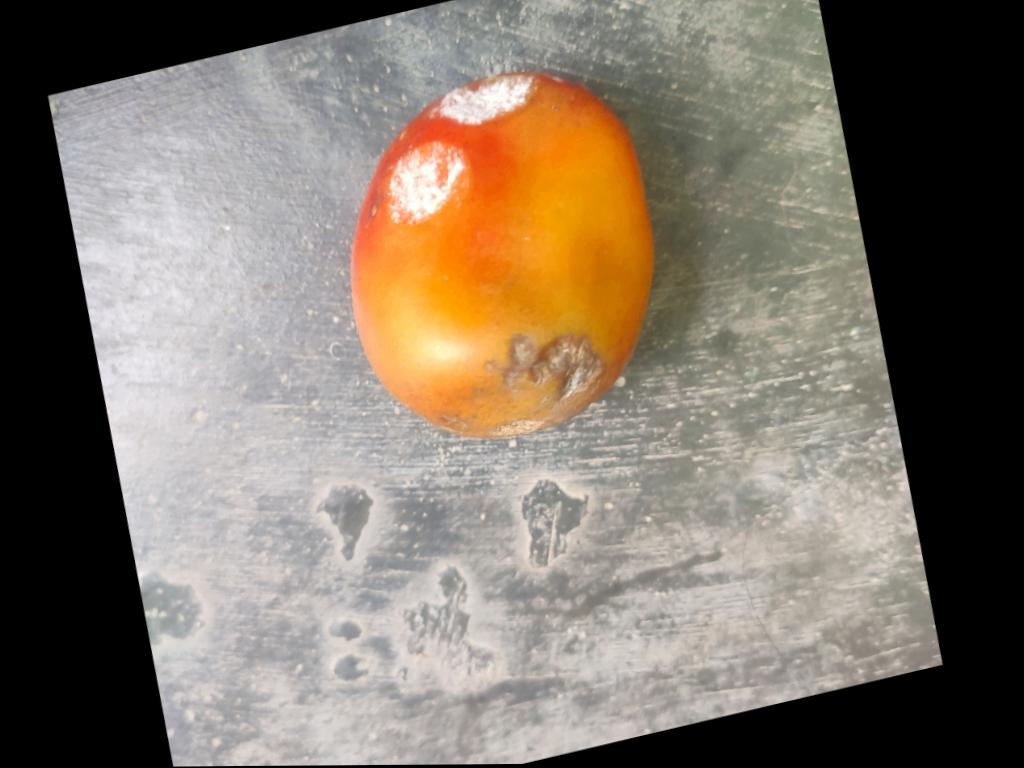rot_mold_decay: (384, 141, 470, 231), (503, 335, 603, 404), (436, 74, 536, 128)
tomato: (351, 73, 652, 439)
